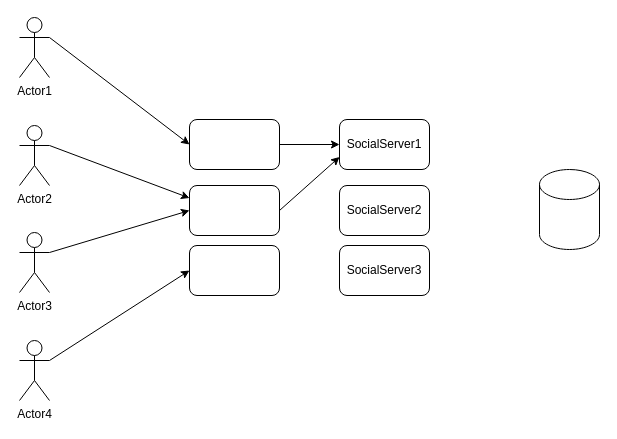
The diagram is 617 pixels wide and 439 high, and some of its shapes have lost their labels. The shapes that lost their labels are listed below. From the top down, each one's centre as x and y in pixels, then its label:
At (x=234, y=144): "GateServer1".
At (x=234, y=210): "GateServer2".
At (x=569, y=209): "Redis".
At (x=234, y=270): "GateServer3".
